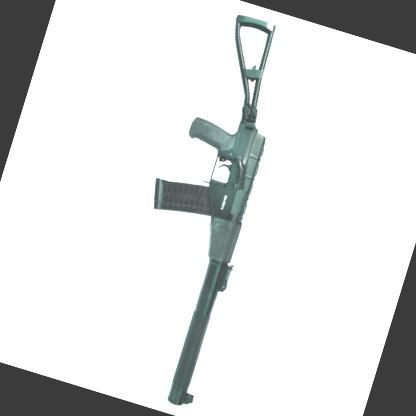rifle: (76, 0, 320, 416)
